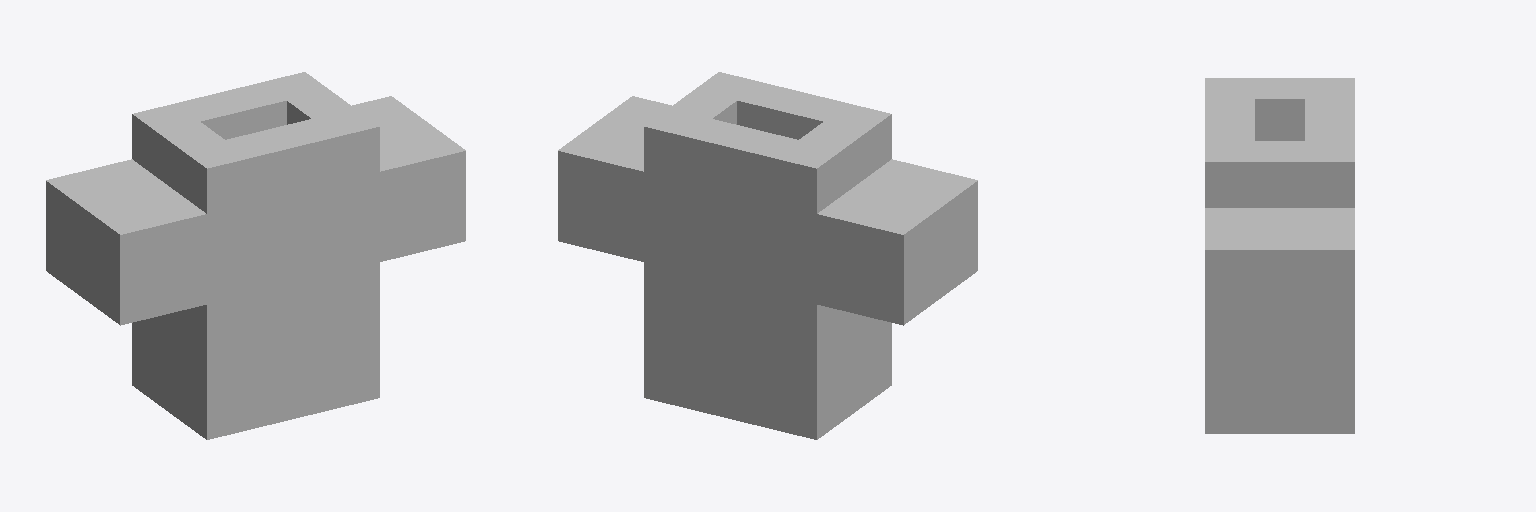
Rendered from Steel Armor.obj.
3 renders of one model, left to right at view 1: azimuth 30°, elevation 25°; view 2: azimuth 150°, elevation 25°; view 3: azimuth 270°, elevation 25°, orthographic.
Size of the model in its own units: 8 by 6 by 3.